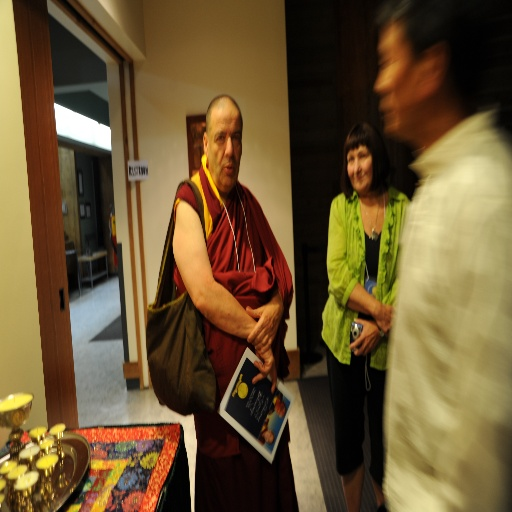hand: (244, 304, 277, 355), (347, 318, 384, 360), (375, 302, 399, 336)
